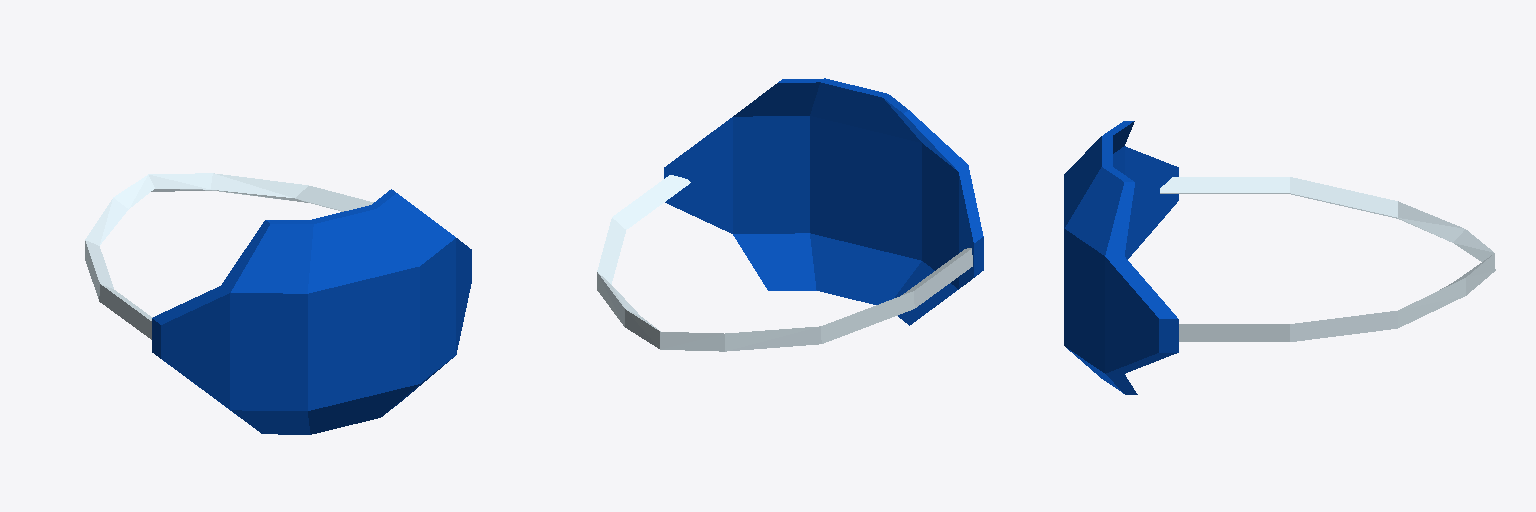
Rendered from Mask.obj.
3 views of the same model, side by side, from view 1: azimuth 30°, elevation 25°; view 2: azimuth 150°, elevation 25°; view 3: azimuth 270°, elevation 25° (orthographic).
Parts seen in each view (by area): view 1: Cube, Cylinder; view 2: Cube, Cylinder; view 3: Cube, Cylinder.
Boxes of the visible parts, <box> form: Cube: <box>152,189,471,434</box>; Cylinder: <box>85,173,373,339</box>; Cube: <box>664,78,983,325</box>; Cylinder: <box>597,175,972,351</box>; Cube: <box>1064,121,1178,394</box>; Cylinder: <box>1160,177,1495,341</box>.
Bounding box in the file's own units: 5.53 × 3.56 × 6.65.